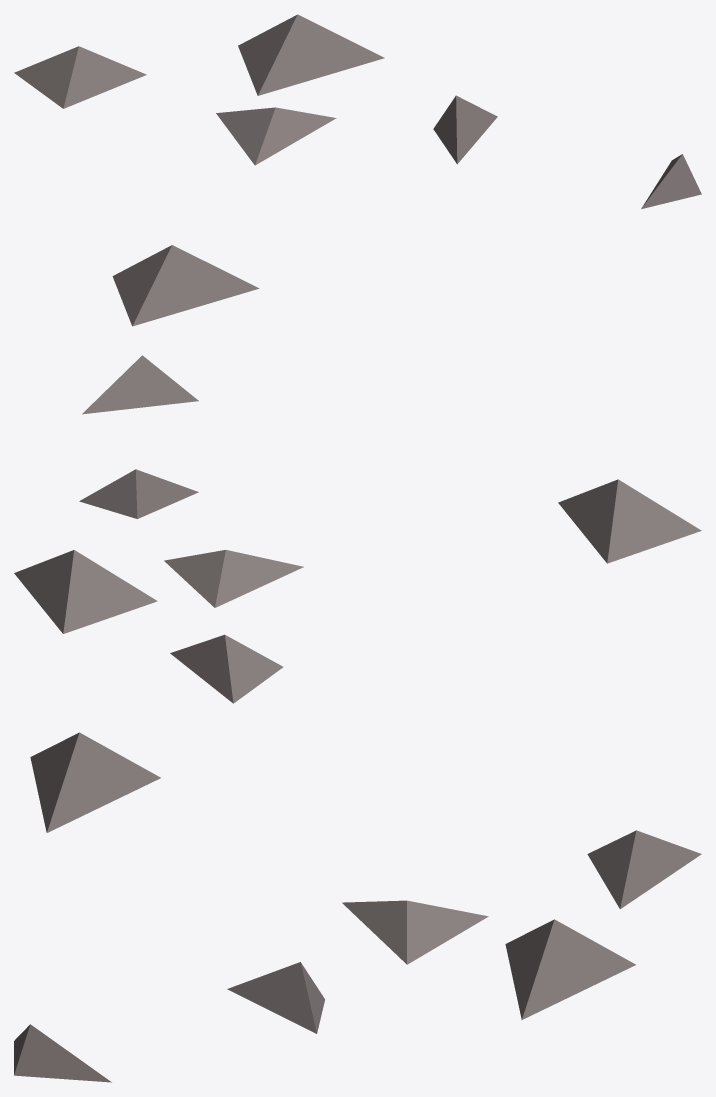
The picture shows the model from 3 angles, top to bottom: view 1: azimuth 30°, elevation 25°; view 2: azimuth 150°, elevation 25°; view 3: azimuth 270°, elevation 25°; orthographic projection. The views are drawn at different scales.
Bounding box in the file's own units: 94 × 8 × 84.
Materials: 1 (1 with a texture image).
